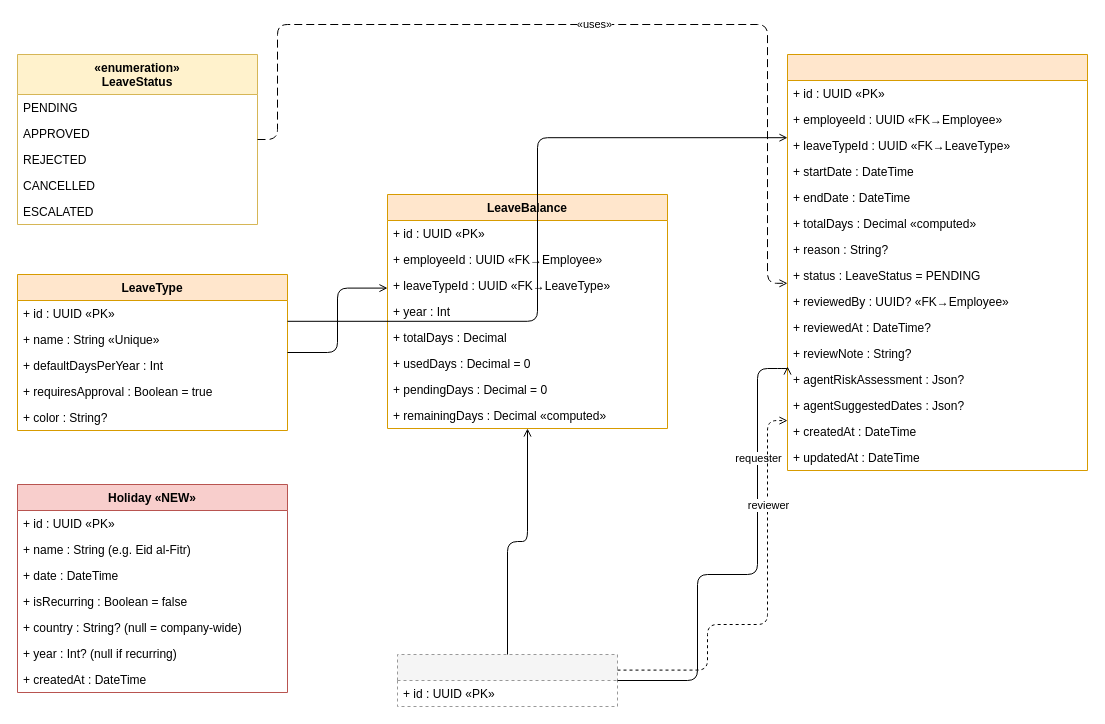
The diagram is 1105 pixels wide and 724 high, and some of its shapes have lost their labels. Here are the shapes that lost their labels. From the top down, the box of each, then its label:
(786, 54, 1088, 470): LeaveRequest
(396, 654, 618, 706): Employee
